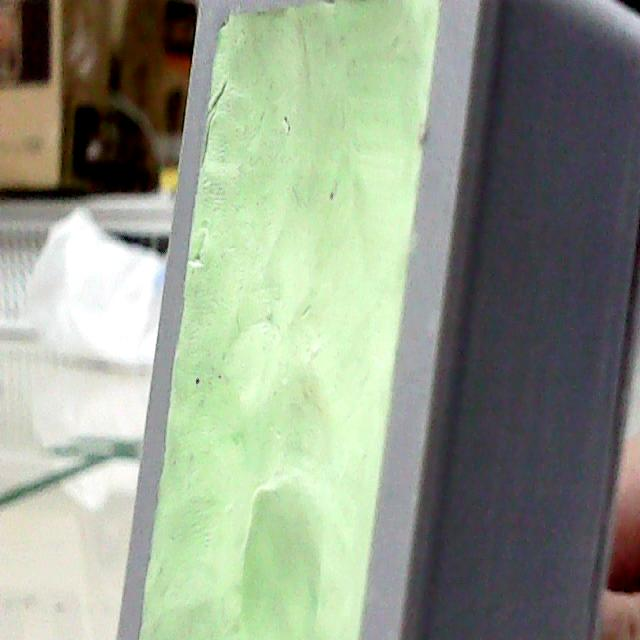block: (94, 2, 640, 640)
